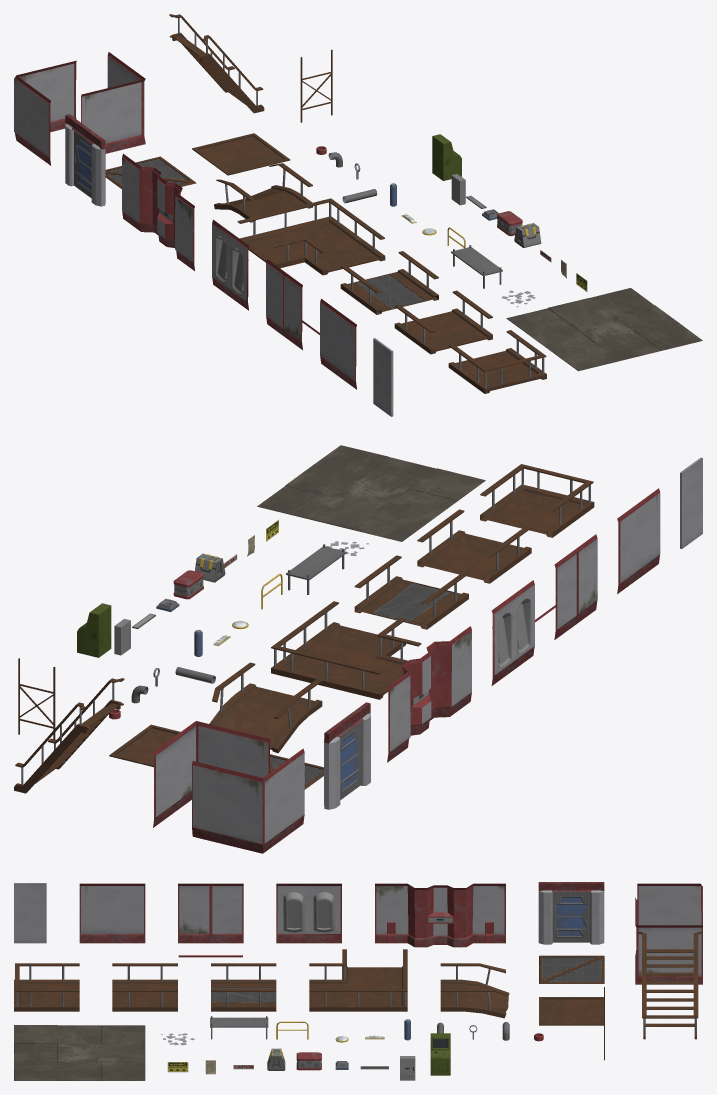
The model's file is abandoned_factory_modules.glb.
The picture shows the model from 3 angles, top to bottom: view 1: azimuth 30°, elevation 25°; view 2: azimuth 150°, elevation 25°; view 3: azimuth 270°, elevation 25°; orthographic projection. The views are drawn at different scales.
Parts seen in each view (by area): view 1: Factory_Modules:Concrete_Ground, Factory_Modules:Catwalk_Corner_Factory_Modules:M_RustedMetal, Factory_Modules:Wall_Type4, Factory_Modules:WallCorner_Inward, Factory_Modules:WallCorner_Outward, Factory_Modules:Catwalk_End, Factory_Modules:Catwalk, Factory_Modules:Wall_Type3, Factory_Modules:Wall_Type2, Factory_Modules:Wall_Type1, Factory_Modules:Rusted_Panel, Factory_Modules:Catwalk_Broken_Factory_Modules:M_RustedMetal (+9 smaller); view 2: Factory_Modules:Concrete_Ground, Factory_Modules:WallCorner_Inward, Factory_Modules:Catwalk_Corner_Factory_Modules:M_RustedMetal, Factory_Modules:Wall_Type4, Factory_Modules:WallCorner_Outward, Factory_Modules:Catwalk_Broken_Factory_Modules:M_RustedMetal, Factory_Modules:Catwalk_End, Factory_Modules:Catwalk, Factory_Modules:Wall_Type2, Factory_Modules:Wall_Type1, Factory_Modules:Wall_Type3, Factory_Modules:Stairs (+11 smaller); view 3: Factory_Modules:Wall_Type4, Factory_Modules:Concrete_Ground, Factory_Modules:Catwalk_Corner_Factory_Modules:M_RustedMetal, Factory_Modules:Wall_Type1, Factory_Modules:Wall_Type2, Factory_Modules:Wall_Type3, Factory_Modules:WallCorner_Outward, Factory_Modules:Stairs, Factory_Modules:WallCorner_Inward, Factory_Modules:Catwalk_End, Factory_Modules:Catwalk, Factory_Modules:Catwalk_Broken_Factory_Modules:M_RustedMetal (+12 smaller).
Boxes of the visible parts, bbox=[...] form: Factory_Modules:Concrete_Ground: bbox=[506, 288, 702, 371]; Factory_Modules:Catwalk_Corner_Factory_Modules:M_RustedMetal: bbox=[237, 198, 385, 275]; Factory_Modules:Wall_Type4: bbox=[122, 153, 194, 270]; Factory_Modules:WallCorner_Inward: bbox=[14, 60, 76, 165]; Factory_Modules:WallCorner_Outward: bbox=[81, 52, 145, 153]; Factory_Modules:Catwalk_End: bbox=[448, 330, 546, 393]; Factory_Modules:Catwalk: bbox=[394, 290, 492, 354]; Factory_Modules:Wall_Type3: bbox=[212, 219, 248, 310]; Factory_Modules:Wall_Type2: bbox=[266, 259, 302, 349]; Factory_Modules:Wall_Type1: bbox=[320, 298, 356, 389]; Factory_Modules:Rusted_Panel: bbox=[192, 133, 290, 175]; Factory_Modules:Catwalk_Broken_Factory_Modules:M_RustedMetal: bbox=[214, 163, 312, 222]; Factory_Modules:Concrete_Ground: bbox=[257, 445, 485, 541]; Factory_Modules:WallCorner_Inward: bbox=[192, 748, 304, 853]; Factory_Modules:Catwalk_Corner_Factory_Modules:M_RustedMetal: bbox=[271, 601, 421, 699]; Factory_Modules:Wall_Type4: bbox=[387, 626, 471, 762]; Factory_Modules:WallCorner_Outward: bbox=[153, 721, 270, 827]; Factory_Modules:Catwalk_Broken_Factory_Modules:M_RustedMetal: bbox=[209, 662, 322, 753]; Factory_Modules:Catwalk_End: bbox=[480, 464, 594, 537]; Factory_Modules:Catwalk: bbox=[417, 509, 531, 583]; Factory_Modules:Wall_Type2: bbox=[554, 534, 597, 639]; Factory_Modules:Wall_Type1: bbox=[617, 488, 660, 594]; Factory_Modules:Wall_Type3: bbox=[491, 580, 534, 685]; Factory_Modules:Stairs: bbox=[14, 678, 124, 793]; Factory_Modules:Wall_Type4: bbox=[375, 883, 505, 947]; Factory_Modules:Concrete_Ground: bbox=[14, 1025, 145, 1080]; Factory_Modules:Catwalk_Corner_Factory_Modules:M_RustedMetal: bbox=[309, 949, 407, 1011]; Factory_Modules:Wall_Type1: bbox=[79, 883, 145, 943]; Factory_Modules:Wall_Type2: bbox=[178, 883, 243, 943]; Factory_Modules:Wall_Type3: bbox=[276, 883, 341, 943]; Factory_Modules:WallCorner_Outward: bbox=[635, 897, 702, 984]; Factory_Modules:Stairs: bbox=[637, 931, 702, 1039]; Factory_Modules:WallCorner_Inward: bbox=[637, 883, 702, 925]; Factory_Modules:Catwalk_End: bbox=[14, 963, 79, 1011]; Factory_Modules:Catwalk: bbox=[112, 963, 177, 1011]; Factory_Modules:Catwalk_Broken_Factory_Modules:M_RustedMetal: bbox=[440, 963, 509, 1018].
Bounding box in the file's own units: 12.48 × 3.82 × 25.8.
5 materials, 5 textured.
